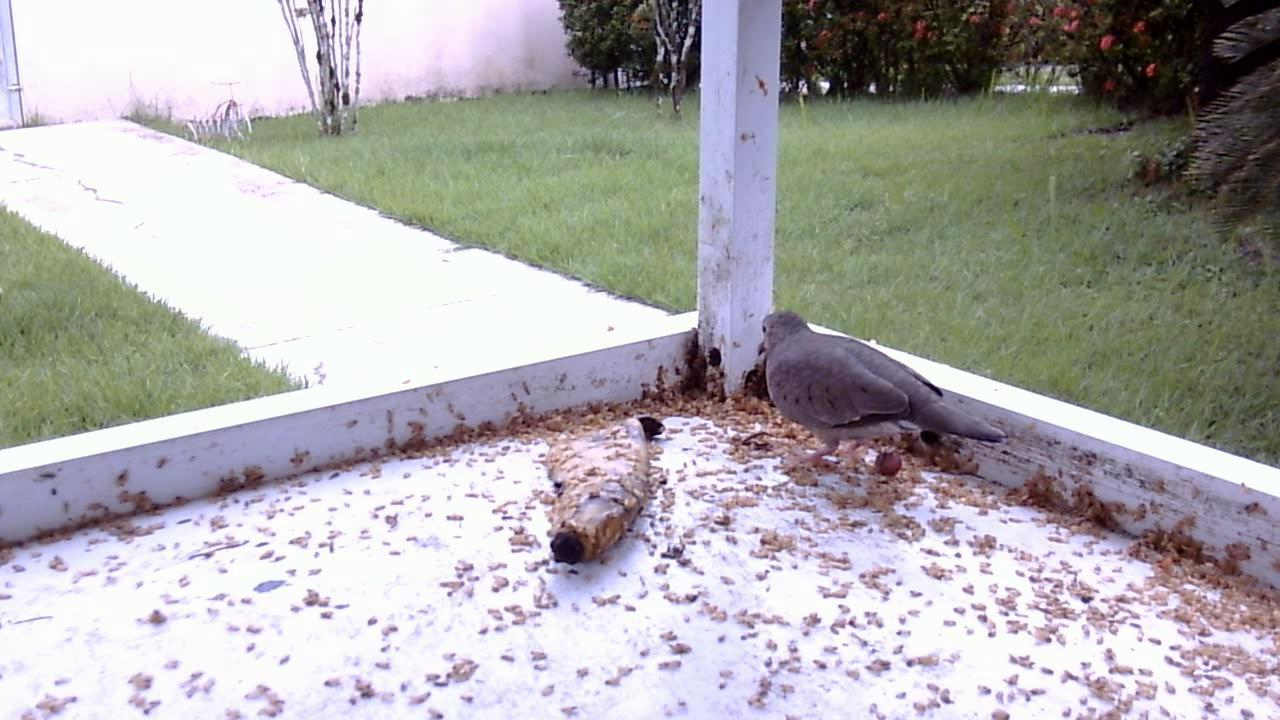rolinha: (748, 307, 1010, 477)
